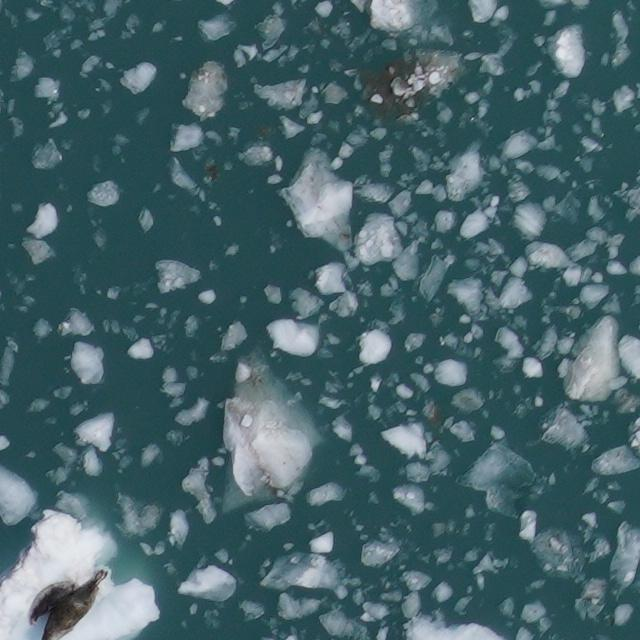seal: (26, 557, 117, 640), (18, 573, 77, 628)
